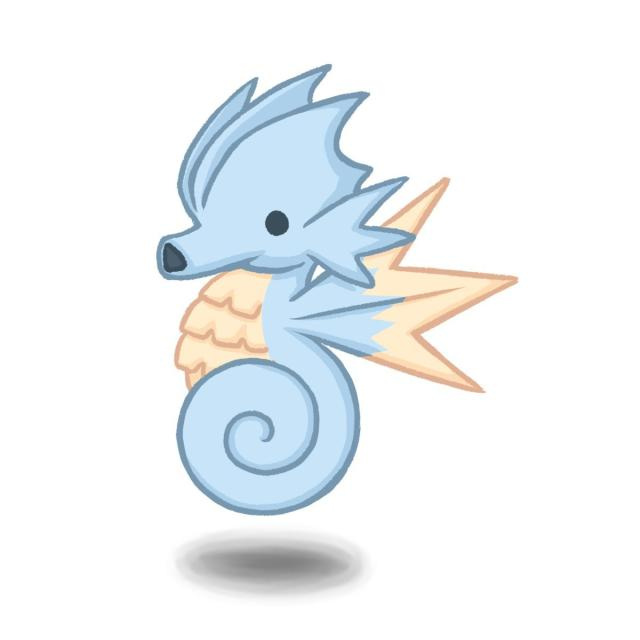Seadra: (128, 62, 490, 523)
